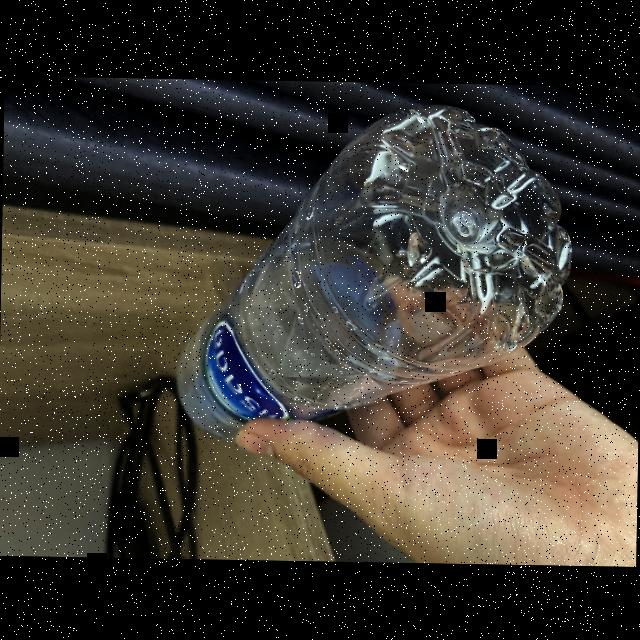plastic_bottle: (170, 92, 586, 450)
